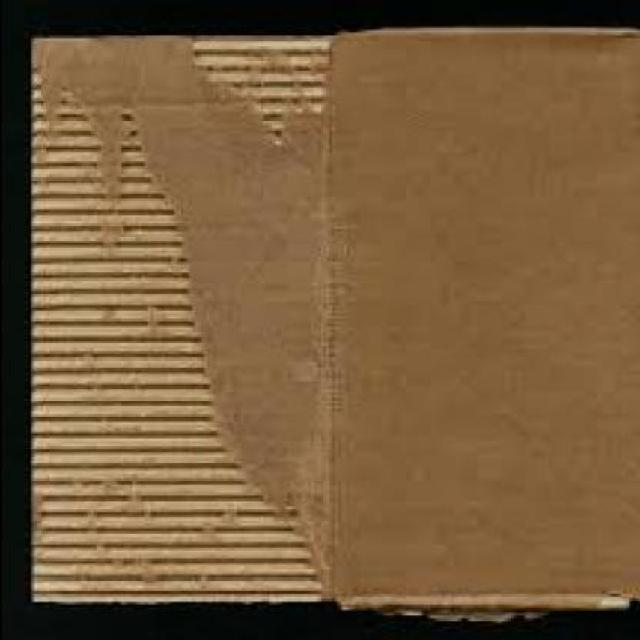CARDBOARD: (25, 21, 637, 622)
